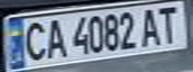0: (87, 11, 106, 54)
2: (118, 8, 139, 51)
4: (66, 14, 90, 56)
8: (103, 10, 124, 52)
A: (136, 6, 166, 47), (42, 16, 69, 60)
C: (18, 18, 51, 62)
T: (154, 2, 187, 45)
